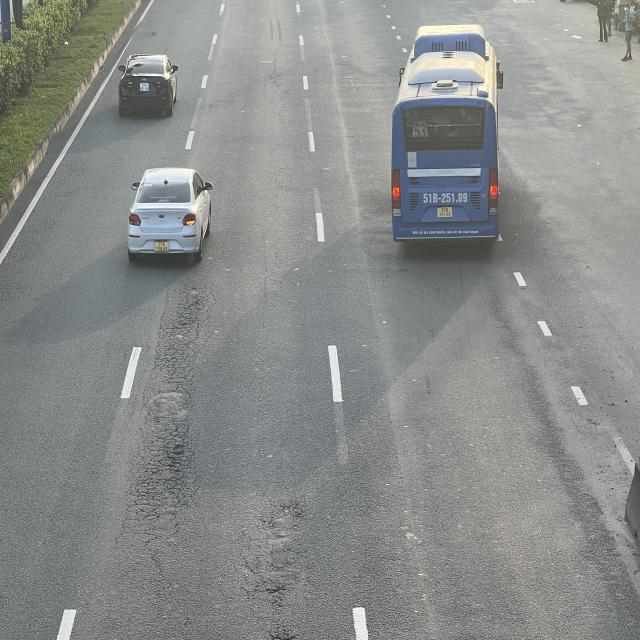car: (126, 169, 212, 264), (117, 54, 178, 117)
coach: (390, 27, 503, 251)
